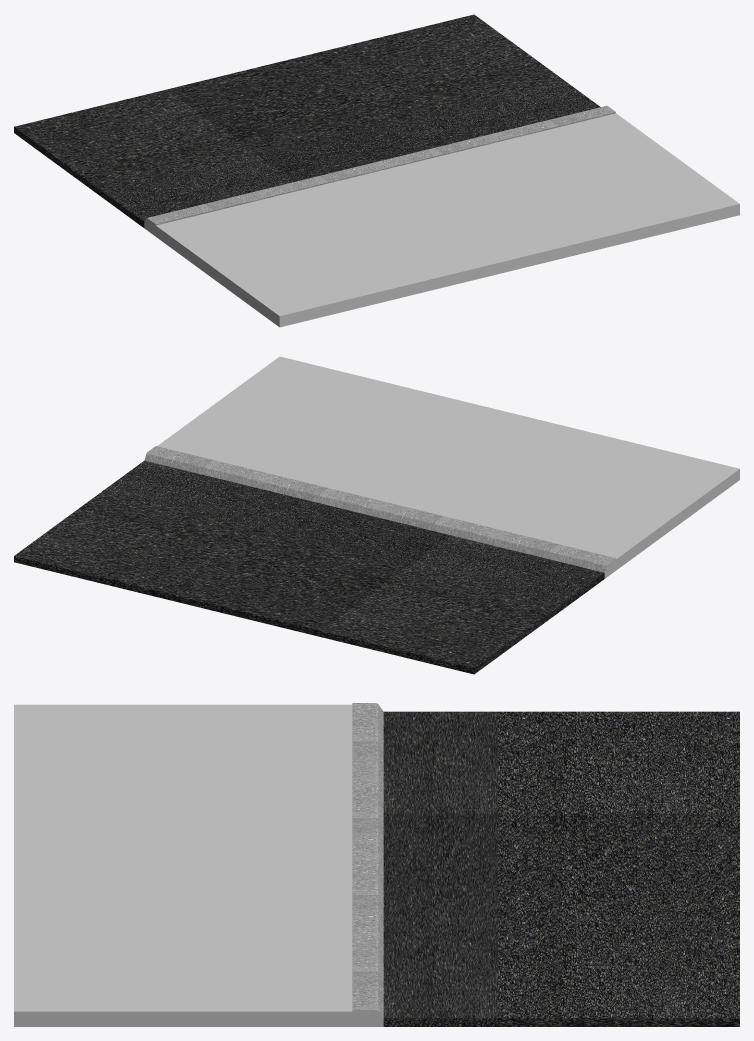
Rendered from tile12.fbx.
The picture shows the model from 3 angles, top to bottom: view 1: azimuth 30°, elevation 25°; view 2: azimuth 150°, elevation 25°; view 3: azimuth 270°, elevation 25°; orthographic projection. The views are drawn at different scales.
Parts seen in each view (by area): view 1: Cube; view 2: Cube; view 3: Cube.
Part boxes in pixels (box(x1,y1,x2,y2)): Cube: box(14, 14, 739, 327); Cube: box(14, 356, 739, 674); Cube: box(14, 703, 739, 1026).
Size of the model in its own units: 600 by 15.53 by 600.
